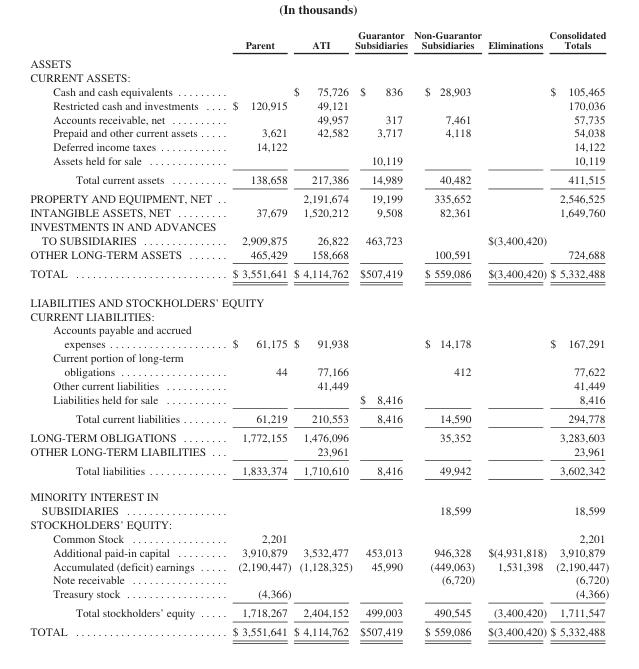table: (29, 28, 608, 637)
table column: (29, 28, 223, 637), (410, 28, 484, 637), (223, 28, 291, 637), (484, 28, 547, 637), (291, 28, 352, 637), (547, 28, 608, 637), (352, 28, 410, 637)
table column header: (29, 28, 608, 53)
table projected row header: (29, 287, 608, 308), (29, 53, 608, 70), (29, 70, 608, 84), (29, 308, 608, 322), (29, 517, 608, 530)
table row: (29, 483, 608, 517), (29, 322, 608, 350), (29, 350, 608, 378), (29, 219, 608, 246), (29, 28, 608, 53), (29, 263, 608, 287), (29, 460, 608, 483), (29, 287, 608, 308), (29, 169, 608, 188), (29, 408, 608, 427), (29, 602, 608, 621), (29, 53, 608, 70), (29, 188, 608, 205), (29, 246, 608, 263), (29, 443, 608, 460), (29, 153, 608, 169), (29, 392, 608, 408), (29, 427, 608, 443), (29, 586, 608, 602), (29, 621, 608, 637), (29, 70, 608, 84), (29, 97, 608, 111), (29, 111, 608, 125), (29, 125, 608, 139), (29, 139, 608, 153), (29, 205, 608, 219), (29, 308, 608, 322), (29, 378, 608, 392), (29, 530, 608, 544), (29, 544, 608, 558), (29, 558, 608, 572), (29, 572, 608, 586), (29, 84, 608, 97), (29, 517, 608, 530)
